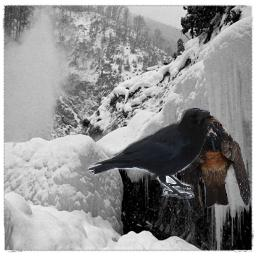Crow: (87, 108, 210, 199)
Swallow: (176, 114, 252, 218)
